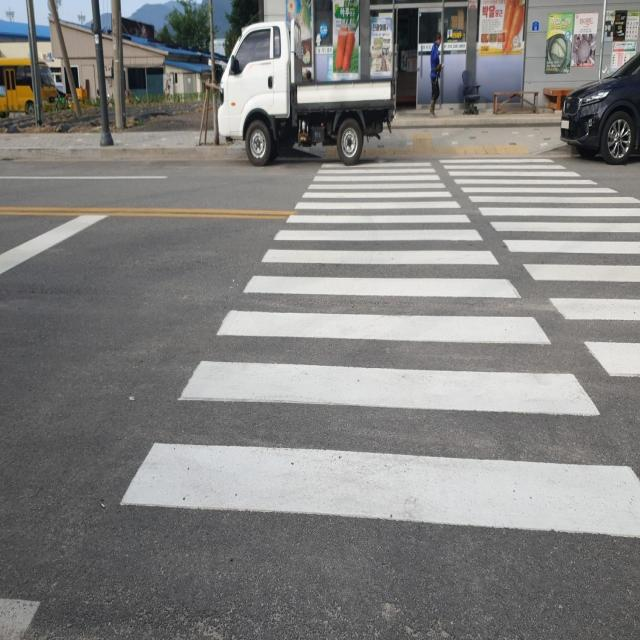횡단보도: (120, 160, 640, 540)
